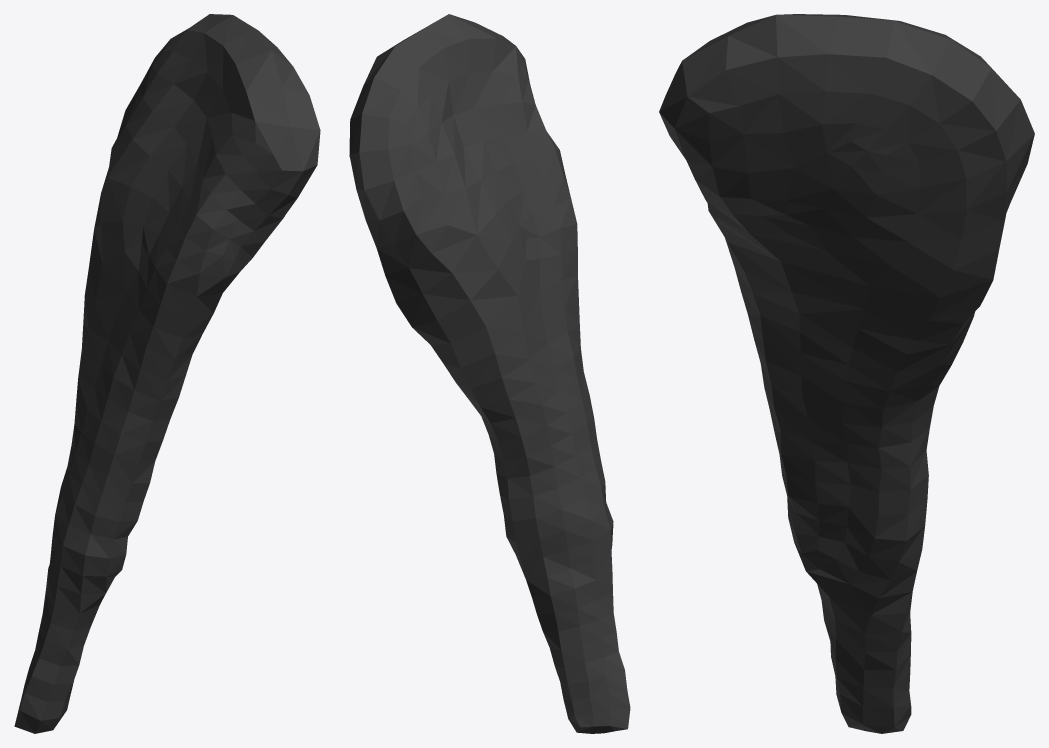
File: Fibula.glb
The picture shows the model from 3 angles, left to right: view 1: azimuth 30°, elevation 25°; view 2: azimuth 150°, elevation 25°; view 3: azimuth 270°, elevation 25°; orthographic projection. The views are drawn at different scales.
Parts seen in each view (by area): view 1: Fibula; view 2: Fibula; view 3: Fibula.
Part boxes in pixels (box(x1,y1,x2,y2)): Fibula: box(14, 14, 320, 733); Fibula: box(349, 14, 630, 733); Fibula: box(659, 14, 1034, 733).
Size of the model in its own units: 28.69 by 71.1 by 29.17.
1 material, 1 textured.
